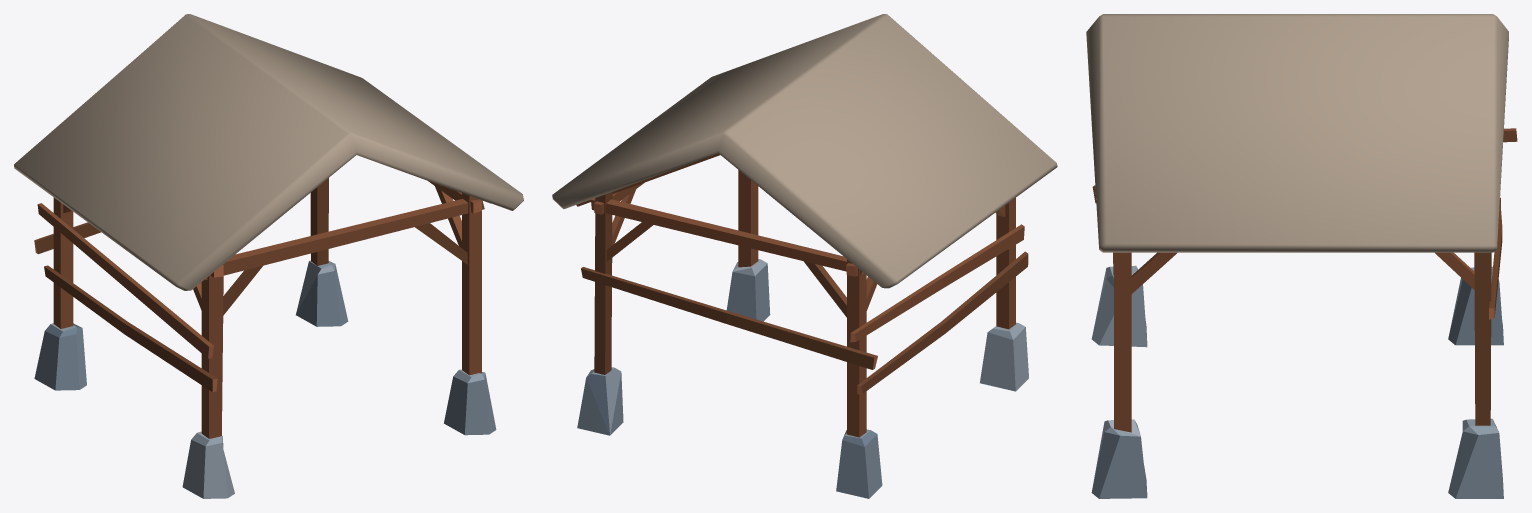
The model's file is Shelter.fbx.
The picture shows the model from 3 angles, left to right: view 1: azimuth 30°, elevation 25°; view 2: azimuth 150°, elevation 25°; view 3: azimuth 270°, elevation 25°; orthographic projection. The views are drawn at different scales.
Visible parts, largest first — view 1: Shelter; view 2: Shelter; view 3: Shelter.
Part boxes in pixels (x1,y1,x2,y2): Shelter: (14, 14, 523, 498); Shelter: (552, 14, 1057, 498); Shelter: (1086, 14, 1517, 498).
Size of the model in its own units: 3.85 by 3.5 by 3.43.
